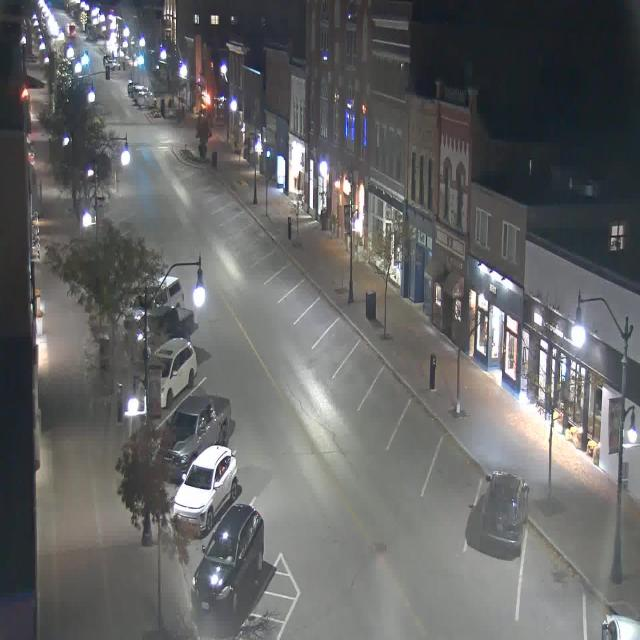available: (516, 513, 596, 628), (427, 426, 487, 523), (397, 384, 453, 468), (368, 352, 418, 424), (344, 324, 388, 395), (157, 360, 215, 410), (324, 299, 362, 356), (306, 281, 342, 331), (293, 266, 321, 304), (268, 238, 290, 272), (282, 254, 304, 286)
occupied: (192, 501, 264, 611), (152, 393, 231, 482), (172, 443, 238, 536), (143, 335, 198, 409), (482, 469, 530, 552), (130, 306, 200, 362), (124, 276, 188, 328), (583, 592, 639, 640)
